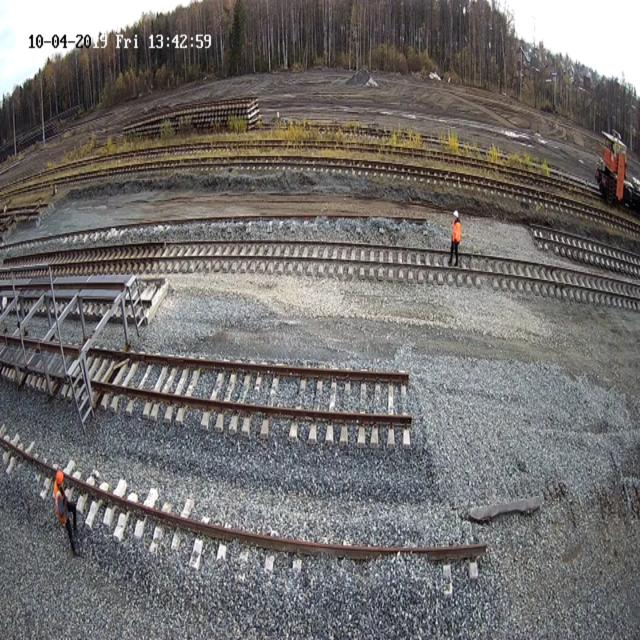Helmet: (56, 470, 64, 485), (453, 210, 459, 217)
Person: (53, 470, 78, 556), (448, 210, 461, 266)
